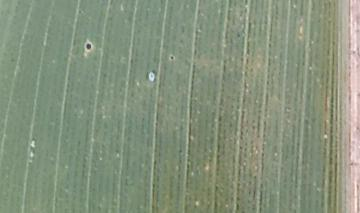tarspot: (84, 40, 93, 51), (170, 52, 175, 62)
